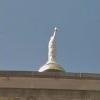Statue: (42, 23, 62, 83)
